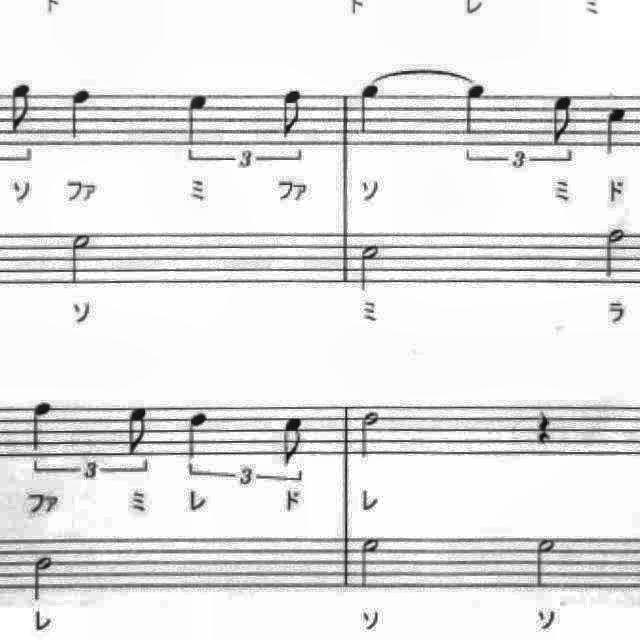Eighth-note: (1, 78, 40, 138), (274, 83, 310, 145), (546, 88, 582, 150), (122, 401, 158, 459), (277, 412, 311, 472)
Half-note: (526, 530, 564, 594), (64, 227, 100, 290), (352, 238, 388, 298), (354, 533, 386, 595), (598, 222, 630, 282), (27, 550, 59, 606), (354, 405, 384, 463)
Quarter-note: (62, 81, 98, 147), (458, 78, 494, 142), (180, 87, 217, 149), (598, 101, 634, 163), (352, 80, 388, 142), (23, 396, 58, 456), (178, 407, 214, 465)
Quarter-rest: (528, 402, 560, 450)
